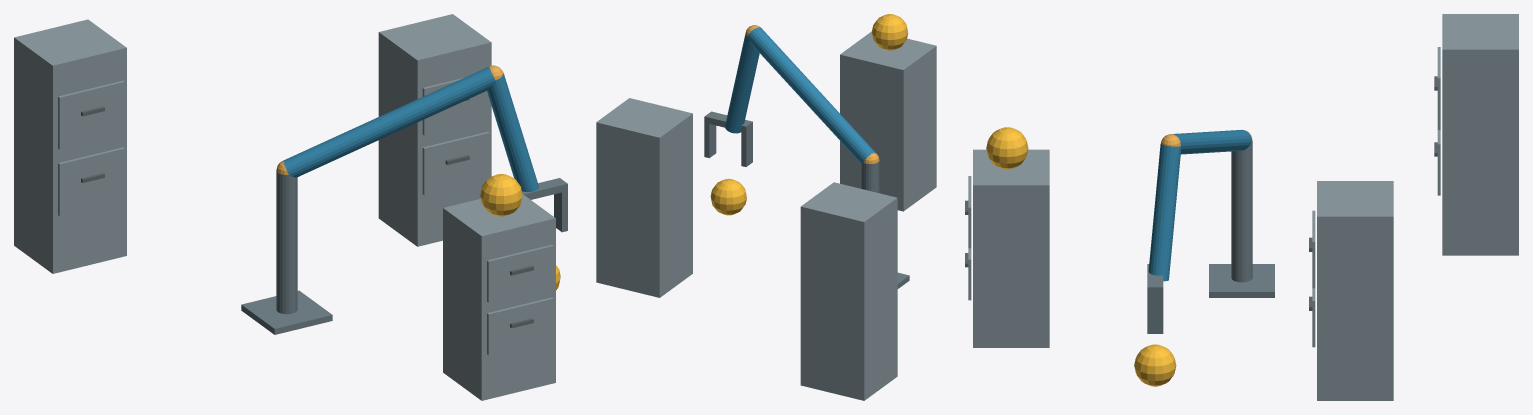
3 renders of one model, left to right at view 1: azimuth 30°, elevation 25°; view 2: azimuth 150°, elevation 25°; view 3: azimuth 270°, elevation 25°, orthographic. The views are drawn at different scales.
Parts seen in each view (by area): view 1: cabinet_3 body, cabinet_1 body, cabinet_2 body, moving link 1, cabinet_3 drawer front.001, cabinet_3 drawer front, cabinet_2 drawer front, fixed post, cabinet_1 drawer front.001, cabinet_1 drawer front, moving link 2, pedestal (+4 smaller); view 2: cabinet_3 body, cabinet_2 body, cabinet_1 body, moving link 1, moving link 2, released ball_1, ball ball_2, fixed post, gripper finger 1, gripper finger -1, gripper bridge; view 3: cabinet_3 body, cabinet_2 body, cabinet_1 body, fixed post, moving link 2, pedestal, moving link 1, released ball_1, ball ball_2, gripper finger 1.
Boxes of the visible parts, x1,y1,x2,y2 form: cabinet_3 body: [14, 19, 126, 273]; cabinet_1 body: [443, 194, 555, 400]; cabinet_2 body: [378, 14, 491, 246]; moving link 1: [283, 66, 495, 177]; cabinet_3 drawer front.001: [58, 80, 124, 149]; cabinet_3 drawer front: [58, 147, 124, 216]; cabinet_2 drawer front: [422, 131, 489, 195]; fixed post: [276, 171, 297, 314]; cabinet_1 drawer front.001: [487, 244, 553, 302]; cabinet_1 drawer front: [487, 297, 553, 355]; moving link 2: [487, 73, 538, 191]; pedestal: [241, 290, 332, 334]; cabinet_3 body: [800, 182, 897, 400]; cabinet_2 body: [596, 98, 692, 297]; cabinet_1 body: [840, 31, 936, 211]; moving link 1: [747, 27, 876, 163]; moving link 2: [725, 32, 759, 133]; released ball_1: [872, 14, 908, 50]; ball ball_2: [710, 178, 746, 215]; fixed post: [861, 161, 879, 193]; gripper finger 1: [704, 122, 716, 158]; gripper finger -1: [741, 128, 752, 166]; gripper bridge: [704, 111, 752, 132]; cabinet_3 body: [1442, 14, 1518, 255]; cabinet_2 body: [1317, 181, 1393, 400]; cabinet_1 body: [973, 149, 1049, 347]; fixed post: [1231, 140, 1252, 282]; moving link 2: [1148, 144, 1181, 281]; pedestal: [1209, 264, 1274, 297]; moving link 1: [1172, 130, 1251, 154]; released ball_1: [986, 127, 1028, 169]; ball ball_2: [1134, 344, 1176, 386]; gripper finger 1: [1147, 294, 1163, 333].
Bounding box in the file's own units: 1.62 × 0.9661 × 2.1.
